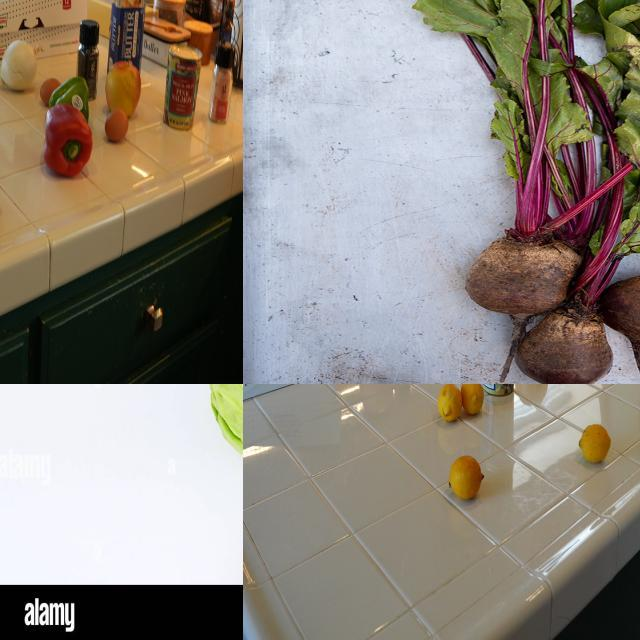beet: (478, 239, 586, 315), (512, 318, 614, 385), (613, 271, 640, 347)
bell_pepper: (41, 110, 99, 177), (76, 19, 102, 99), (49, 79, 95, 121)
egg: (104, 108, 131, 154), (43, 68, 63, 103)
onion: (1, 40, 41, 91)
